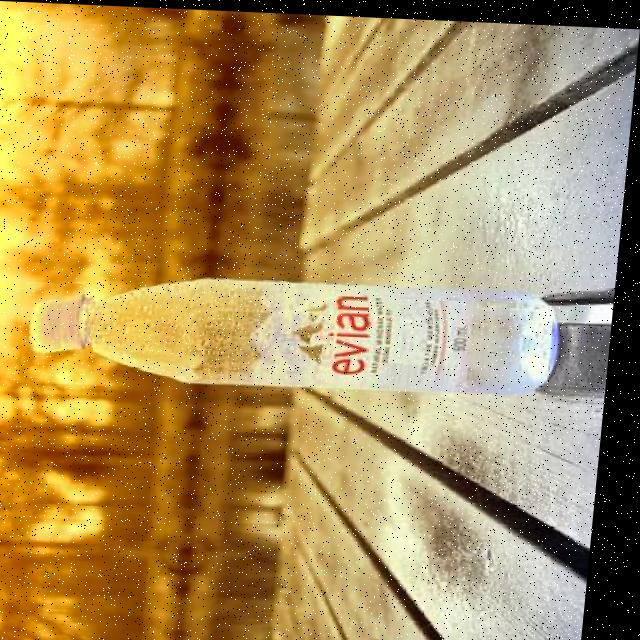litter: (19, 280, 103, 365)
